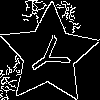Y: (24, 29, 79, 82)
